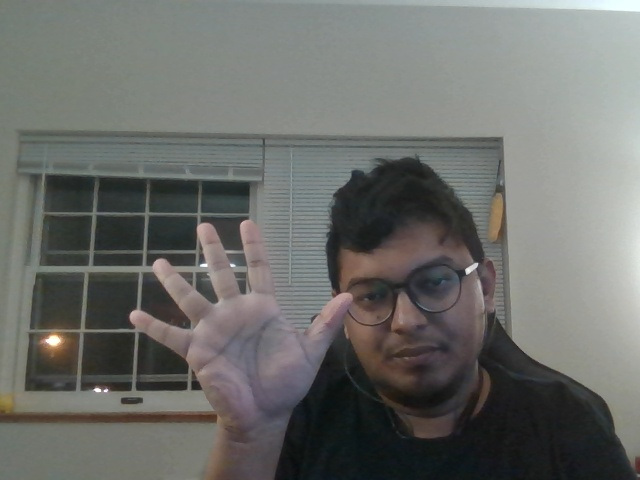hello: (117, 208, 363, 427)
